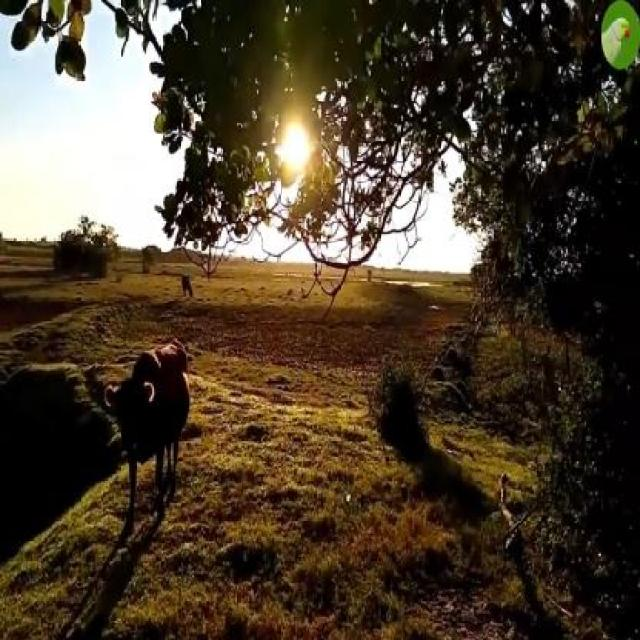Cow: (111, 340, 189, 540)
